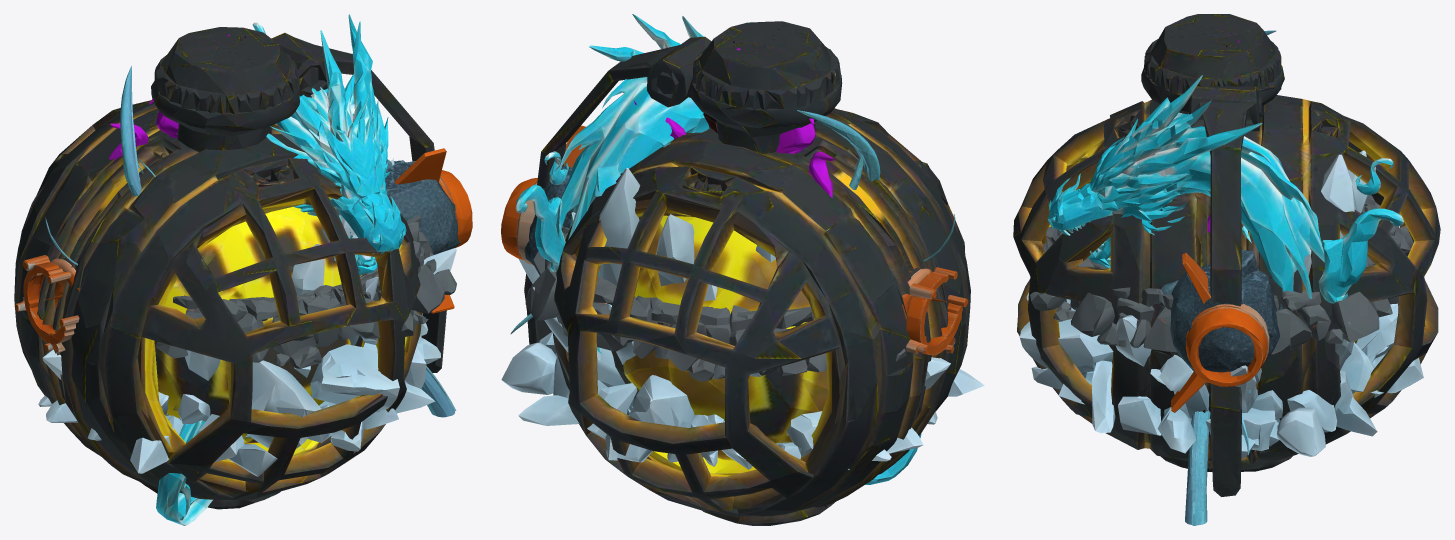
The model's file is mx_vfx_all.glb.
3 views of the same model, side by side, from view 1: azimuth 30°, elevation 25°; view 2: azimuth 150°, elevation 25°; view 3: azimuth 270°, elevation 25° (orthographic). The views are drawn at different scales.
Parts seen in each view (by area): view 1: vfx_grenade, vfx_ice_spike, vfx_chuong, vfx_shock_ring, vfx_missile, vfx_meteor, vfx_blade_wave, vfx_skull_orb; view 2: vfx_grenade, vfx_ice_spike, vfx_chuong, vfx_shock_ring, vfx_missile, vfx_skull_orb, vfx_blade_wave, vfx_meteor; view 3: vfx_grenade, vfx_chuong, vfx_ice_spike, vfx_shock_ring, vfx_meteor, vfx_missile, vfx_blade_wave.
Boxes of the visible parts, <box> form: vfx_grenade: <box>14,27,446,509</box>; vfx_ice_spike: <box>38,158,456,476</box>; vfx_chuong: <box>156,14,406,525</box>; vfx_shock_ring: <box>23,215,456,368</box>; vfx_missile: <box>14,148,472,353</box>; vfx_meteor: <box>43,159,459,300</box>; vfx_blade_wave: <box>45,66,456,417</box>; vfx_skull_orb: <box>108,34,229,161</box>; vfx_grenade: <box>524,21,970,525</box>; vfx_ice_spike: <box>501,168,984,469</box>; vfx_chuong: <box>515,14,921,484</box>; vfx_shock_ring: <box>525,226,906,381</box>; vfx_missile: <box>501,125,968,355</box>; vfx_skull_orb: <box>634,48,834,197</box>; vfx_blade_wave: <box>510,110,955,334</box>; vfx_meteor: <box>524,166,952,303</box>; vfx_grenade: <box>1013,14,1440,496</box>; vfx_chuong: <box>1047,75,1403,303</box>; vfx_ice_spike: <box>1019,150,1423,458</box>; vfx_shock_ring: <box>1030,195,1413,354</box>; vfx_meteor: <box>1161,250,1283,373</box>; vfx_missile: <box>1171,253,1269,412</box>; vfx_blade_wave: <box>1185,30,1276,525</box>.
Bounding box in the file's own units: 1.9 × 1.9 × 1.77.
9 materials, 9 textured.
